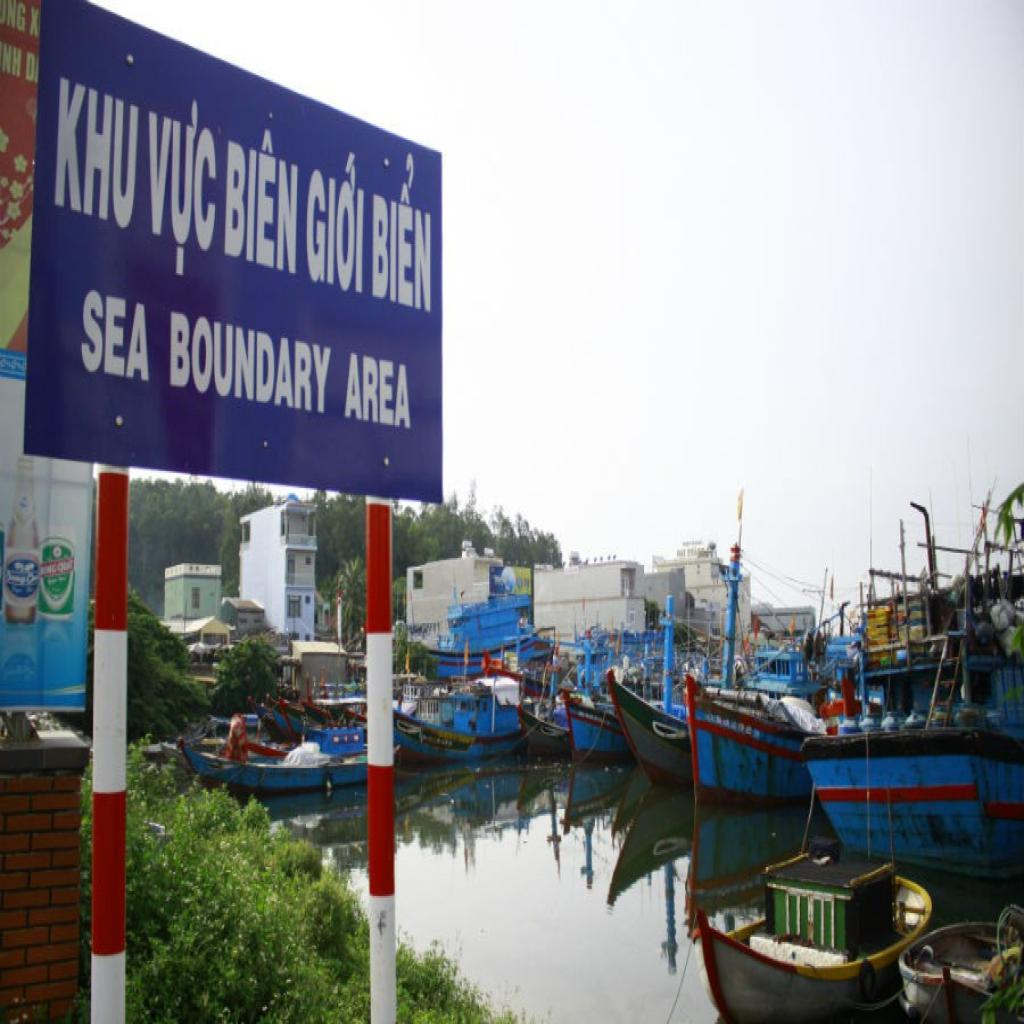text: (168, 307, 336, 418), (147, 84, 222, 285), (52, 72, 141, 237), (223, 114, 303, 282), (371, 147, 435, 319), (304, 145, 367, 299), (78, 287, 152, 387), (342, 348, 413, 434), (1, 39, 25, 82), (6, 0, 28, 32), (24, 50, 39, 87), (29, 5, 42, 41)
